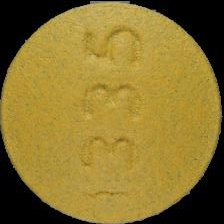0527-1335: (0, 0, 224, 224)
